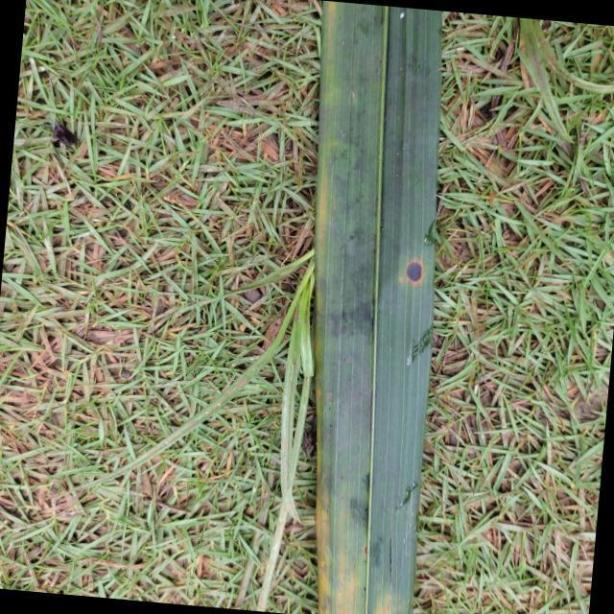Megnesium: (318, 0, 438, 614)
